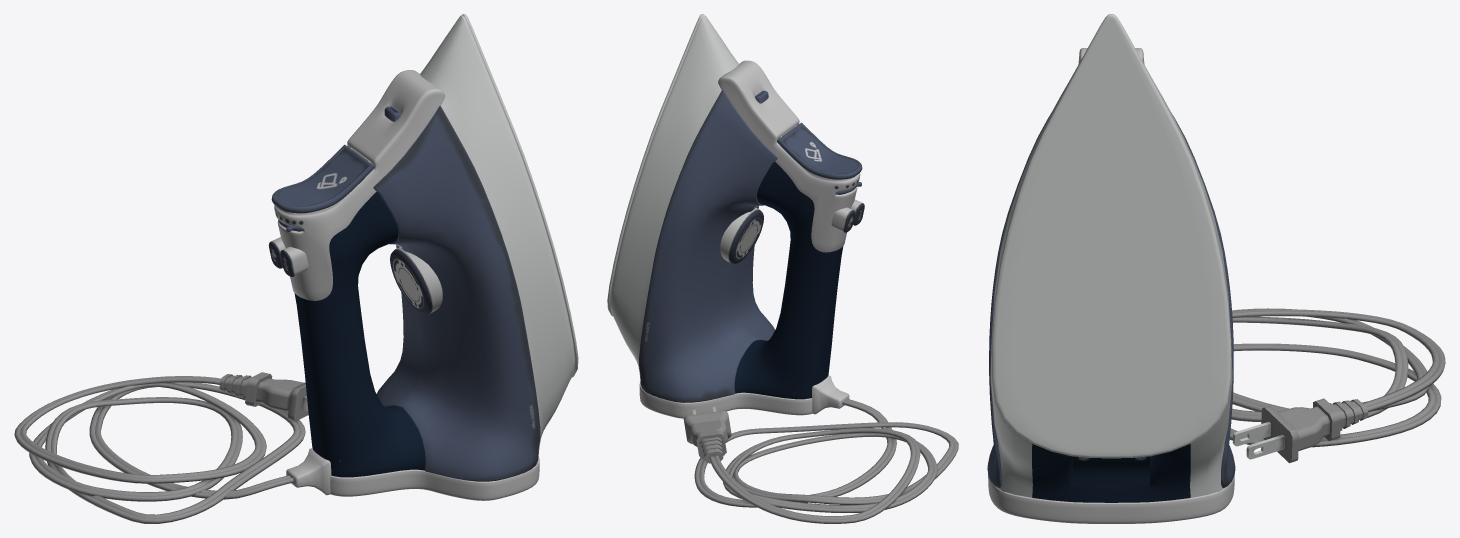
Rendered from ironbox.glb.
The picture shows the model from 3 angles, left to right: view 1: azimuth 30°, elevation 25°; view 2: azimuth 150°, elevation 25°; view 3: azimuth 270°, elevation 25°; orthographic projection. The views are drawn at different scales.
Parts seen in each view (by area): view 1: Clothing_Iron; view 2: Clothing_Iron; view 3: Clothing_Iron.
Part boxes in pixels (x1,y1,x2,y2): Clothing_Iron: [14, 14, 578, 523]; Clothing_Iron: [607, 14, 958, 523]; Clothing_Iron: [987, 14, 1445, 523].
Size of the model in its own units: 51.78 by 52.85 by 45.03.
5 materials, 5 textured.
